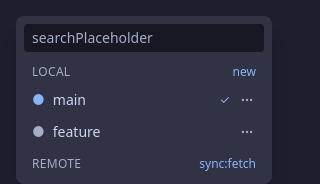
Test: BranchDropdown new branch › offers new even when the filter matches no local branch
The width and height of the screenshot is (320, 184).
(page scrolled)
Type "nothing-matches-this" into the field with placeholder "searchPlaceholder" at (144, 38), box [24, 24, 264, 52]
(page scrolled)
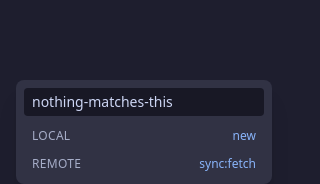
Expected: the button "new" is shown, [225, 124, 264, 148]
Expected: the button "main" is gone
